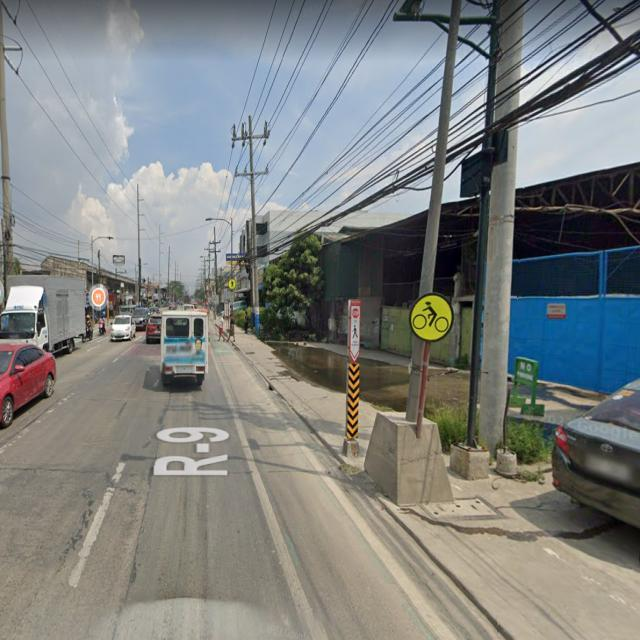bike lane: (408, 286, 459, 360)
pedestrian crossing: (227, 276, 237, 294)
